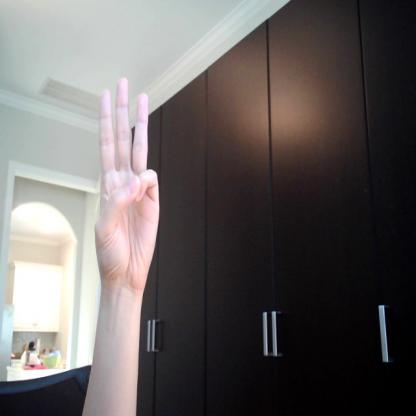six: (90, 74, 163, 302)
